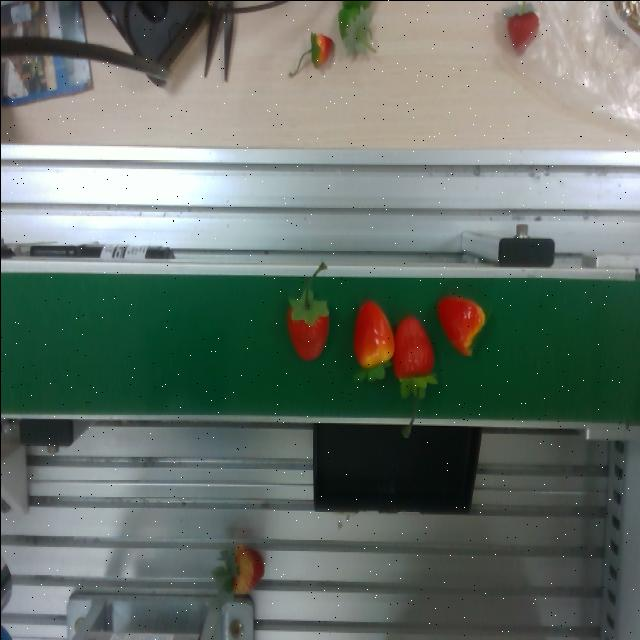Small Ripe Strawberry: (276, 282, 336, 366), (392, 304, 438, 394)
Small Unripe Strawberry: (436, 290, 506, 378), (348, 293, 393, 392)
conveyor: (0, 263, 636, 433)
